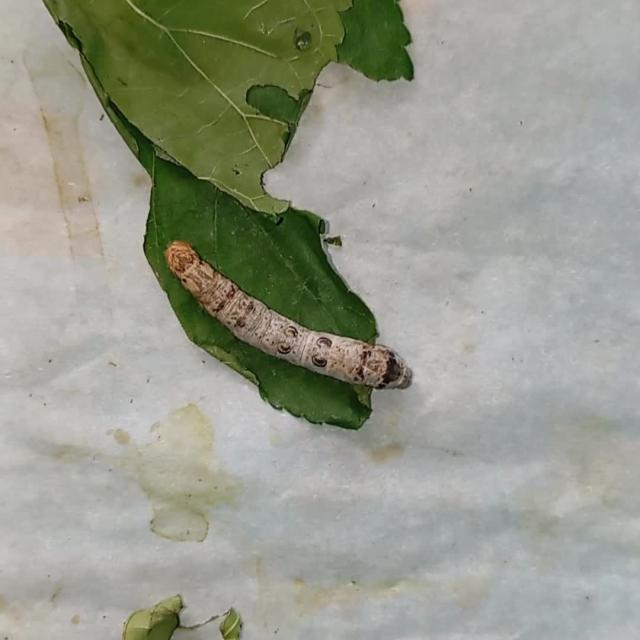Grasserie: (156, 230, 426, 422)
